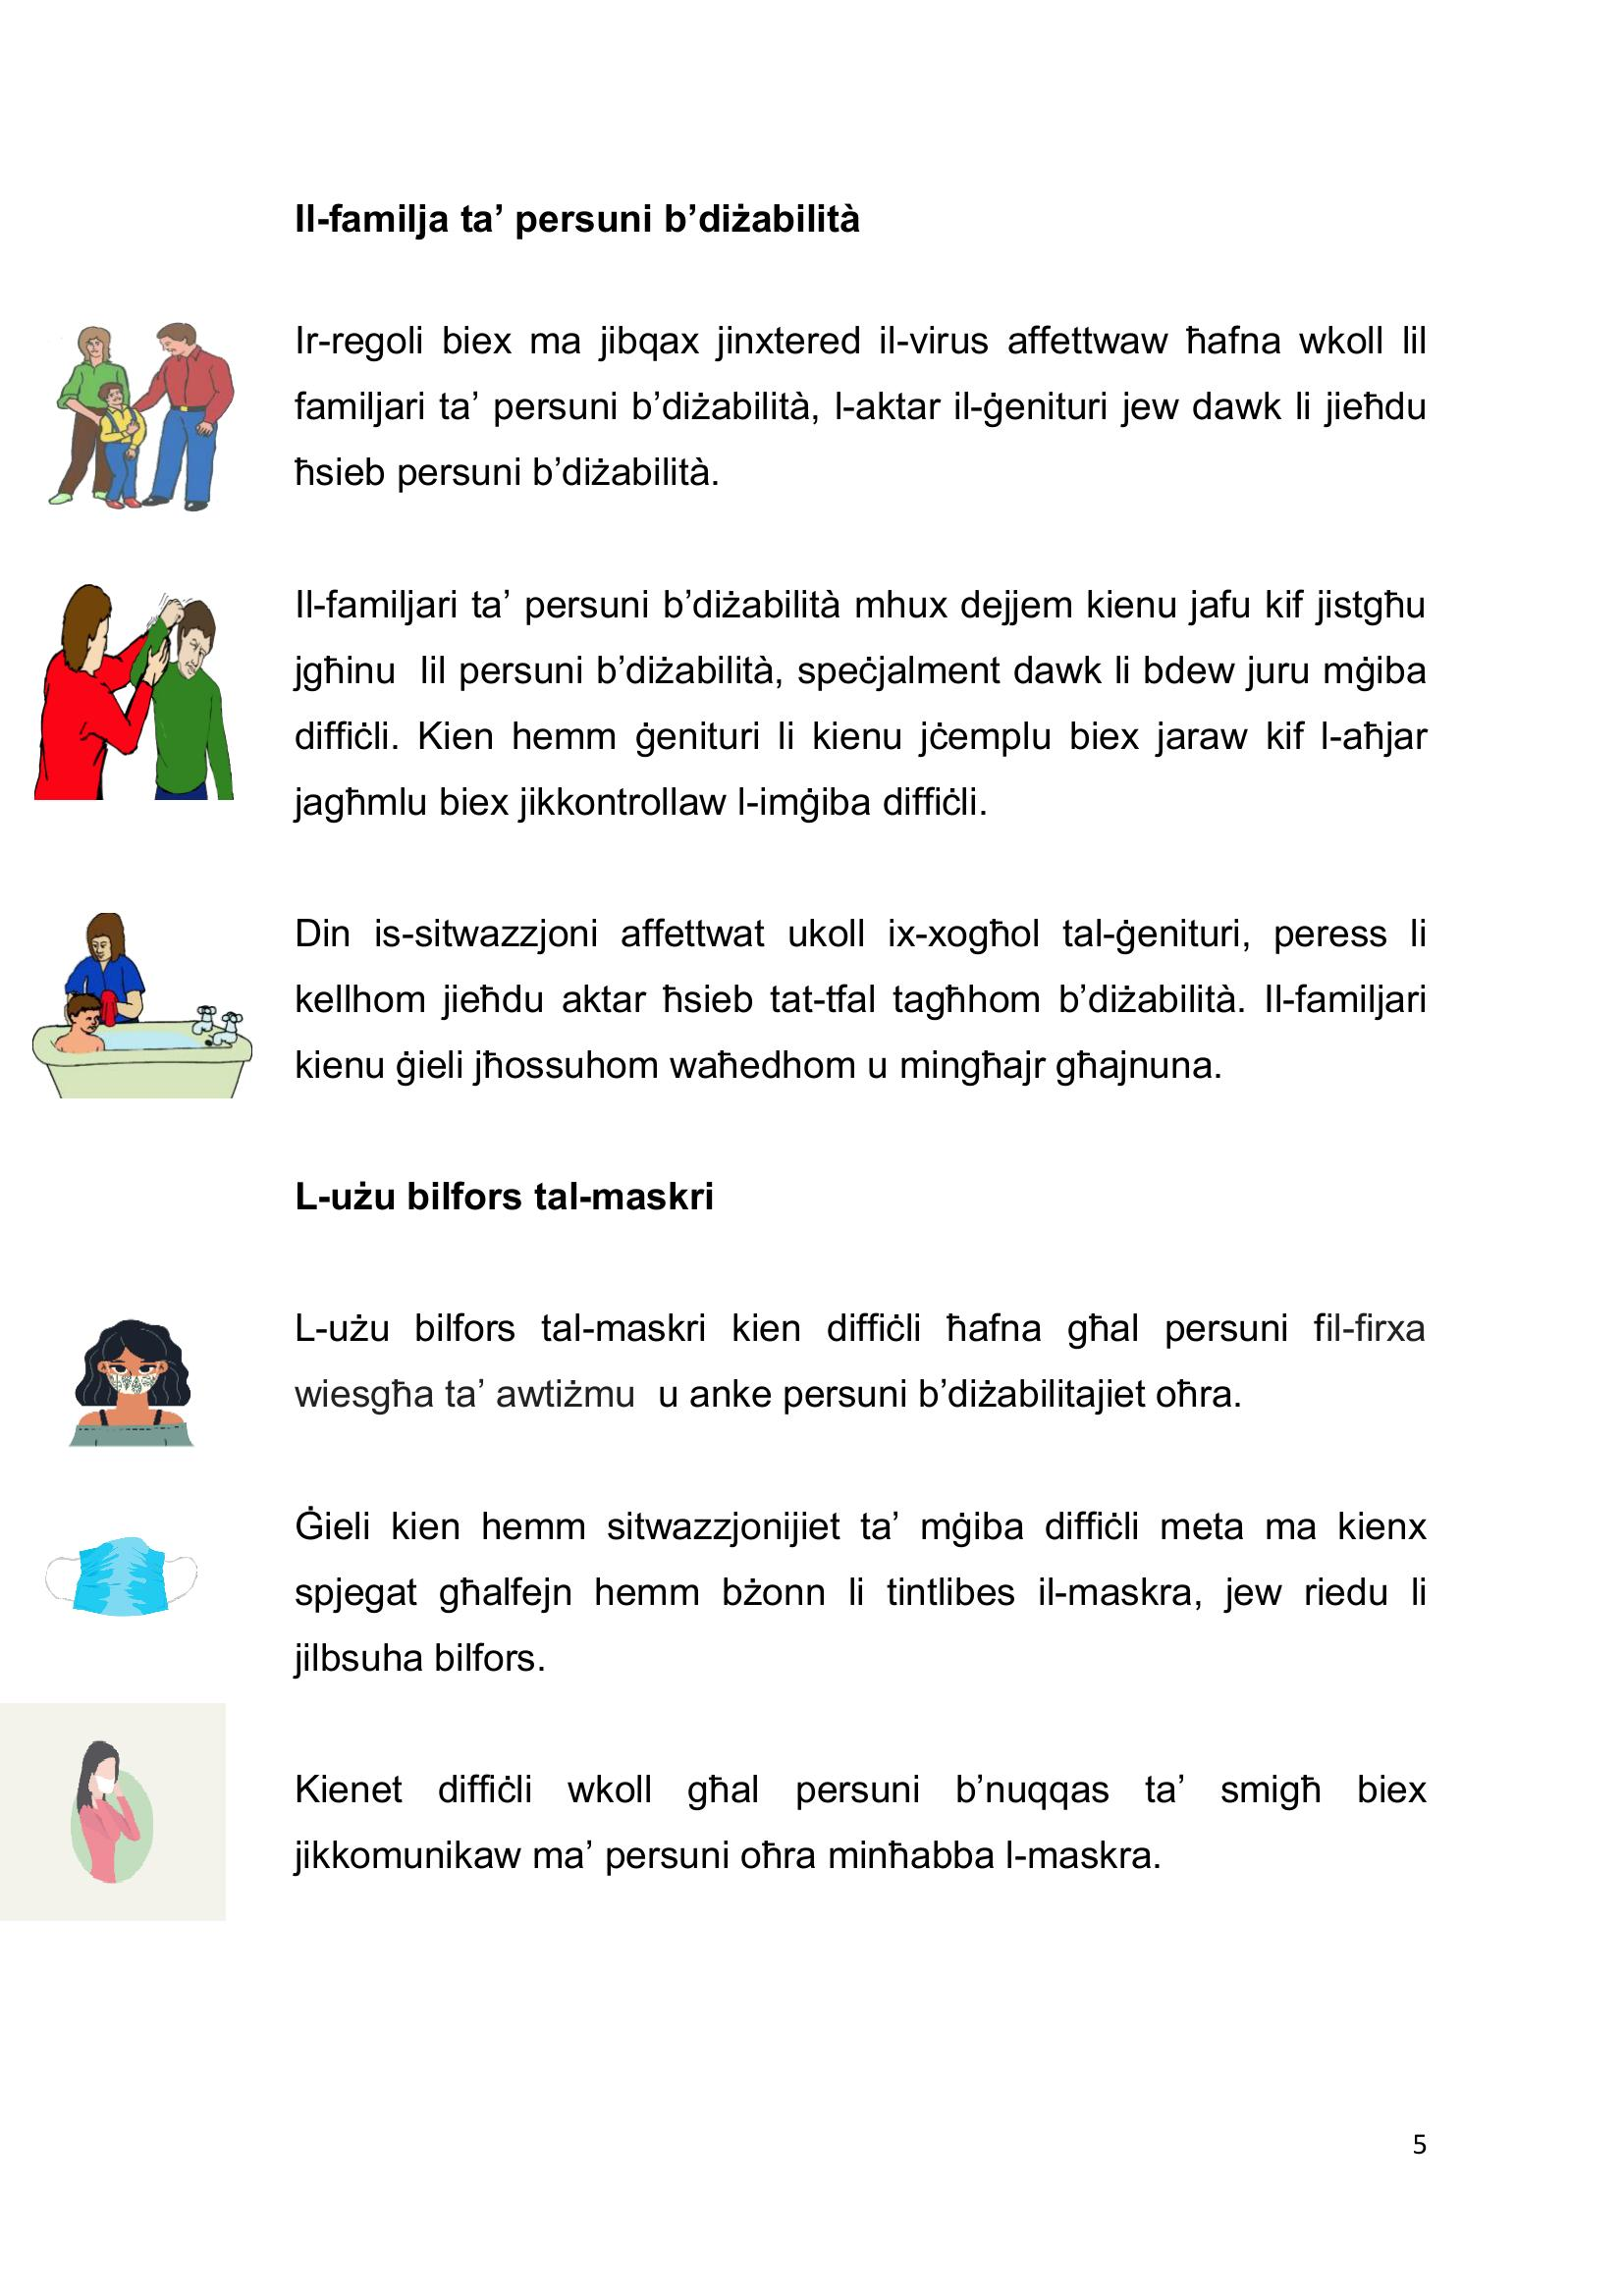text: (264, 155, 1459, 1924)
